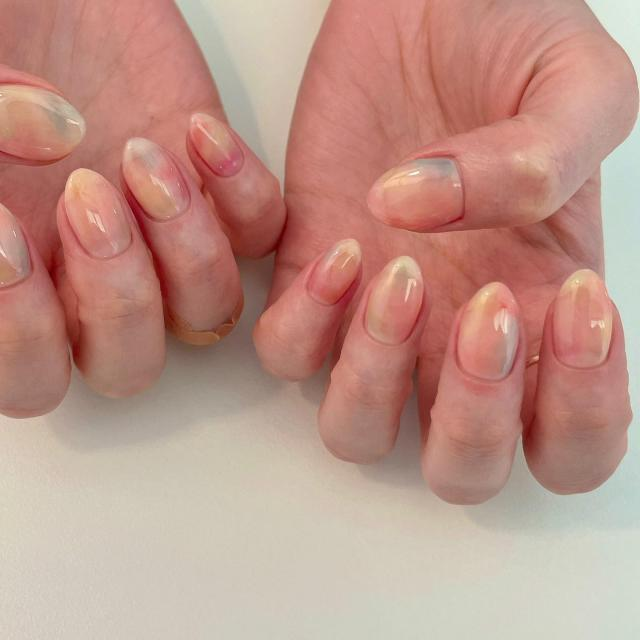Nail: (368, 158, 464, 231), (0, 85, 86, 163), (65, 169, 132, 259), (458, 282, 519, 380), (552, 269, 612, 368), (122, 138, 190, 221), (364, 256, 424, 344), (306, 239, 361, 305), (189, 114, 244, 177), (0, 204, 31, 287)
